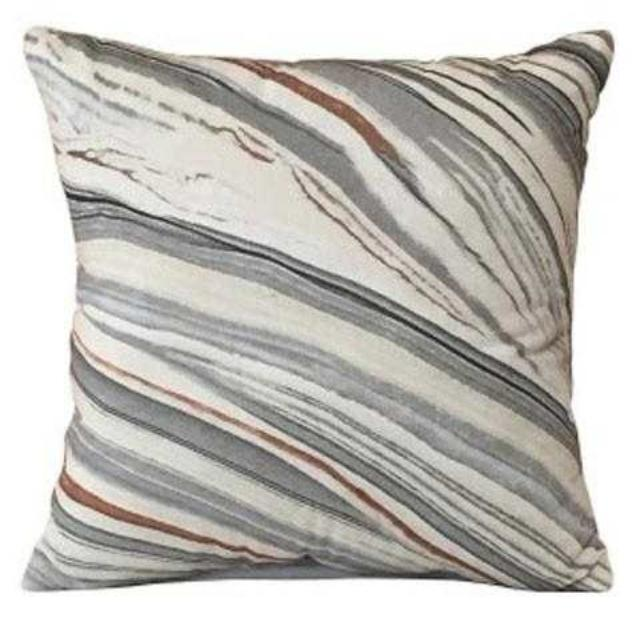pillow: (19, 21, 617, 593)
